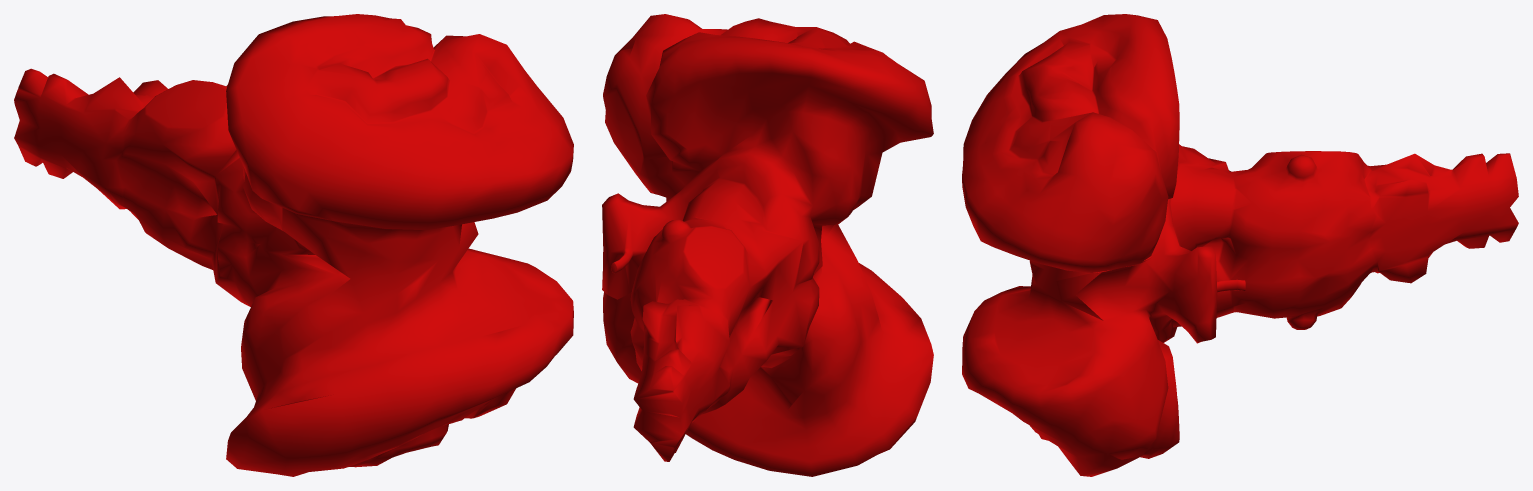
File: region_9.obj
3 renders of one model, left to right at view 1: azimuth 30°, elevation 25°; view 2: azimuth 150°, elevation 25°; view 3: azimuth 270°, elevation 25°, orthographic. The views are drawn at different scales.
Parts seen in each view (by area): view 1: ID85; view 2: ID85; view 3: ID85.
Part boxes in pixels (left/top/right/bottom): ID85: left=14, top=14, right=573, bottom=476; ID85: left=602, top=14, right=933, bottom=476; ID85: left=962, top=14, right=1518, bottom=476.
Size of the model in its own units: 79.64 by 101 by 128.
